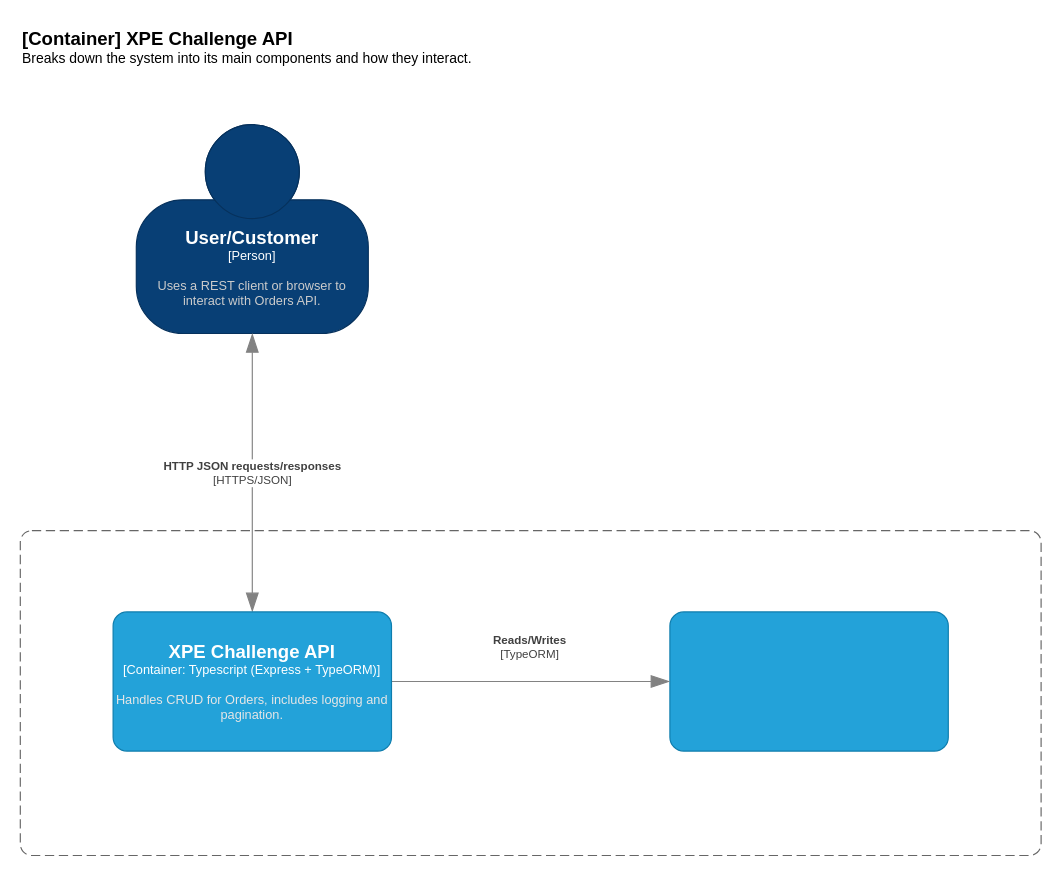
Image size: 1061x876. Some labels were removed from this diagram. Here are the shapes that lost their labels. From the top down, the box of each, then its label:
(19, 530, 1041, 855): XPE Challenge [Software System]
(669, 611, 948, 751): SQLite Database [Container: SQLite] Local file-based storage for Orders.
